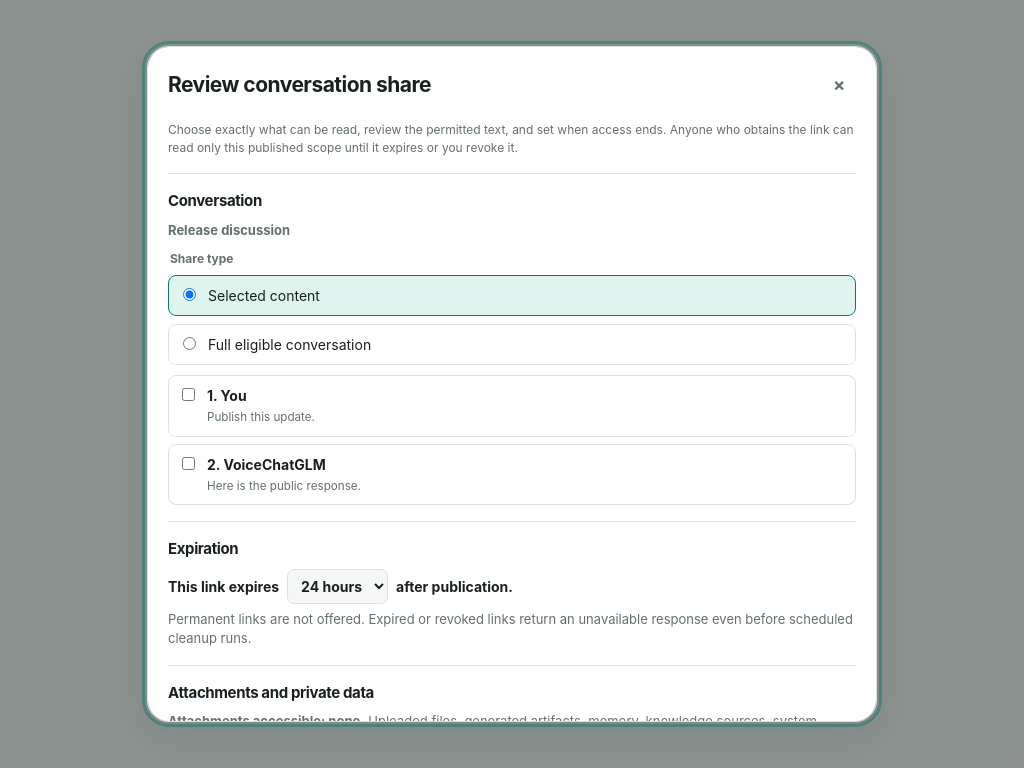
Test: explicit finite share publication dialog › requires a selected scope/expiry preview and only publishes after confirmation
The width and height of the screenshot is (1024, 768).
Expected: the text "Anyone who obtains the link" is shown, [168,122,854,155]
Click the checkbox labelled "1. You Publish this update." at point(188, 395), box [182,388,195,401]
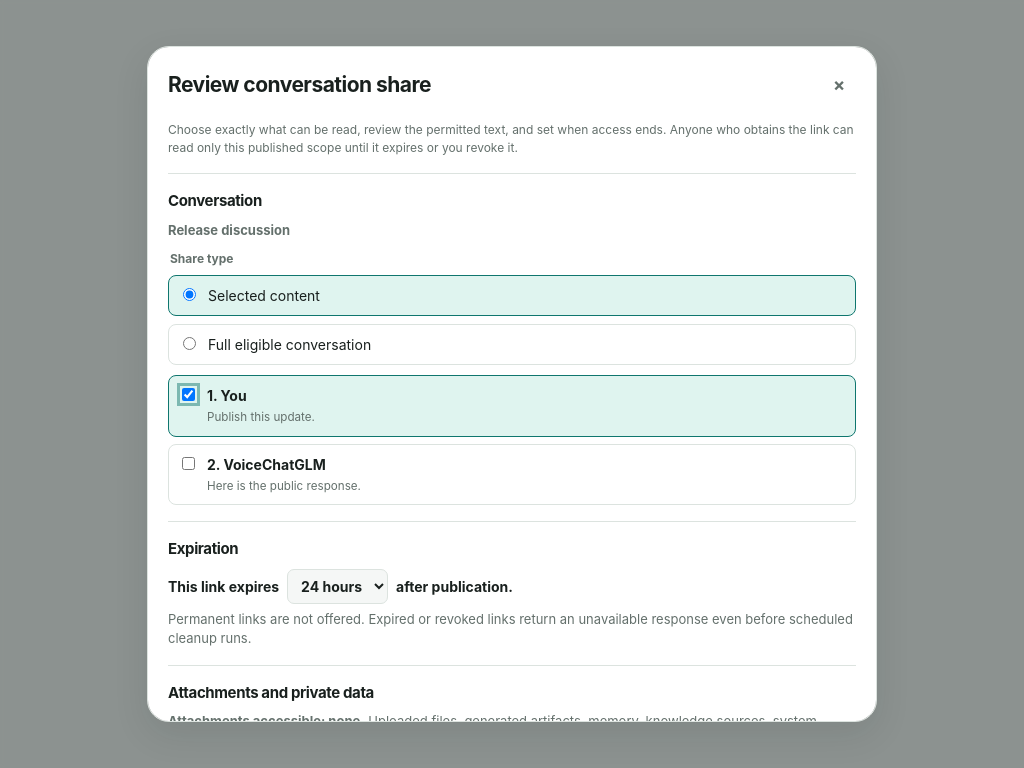
Select "24 hours" in the dropdown named "Share expiration" at point(338, 586), box [287,569,388,604]
(page scrolled)
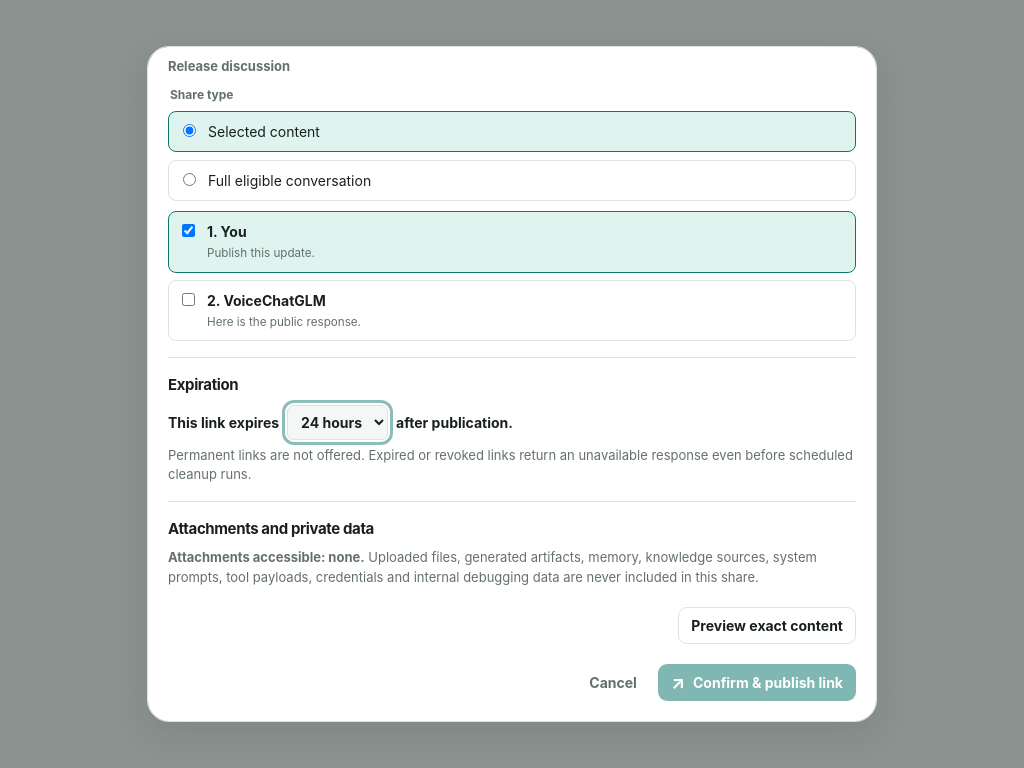
Click the button "Preview exact content" at point(767, 626), box [678,607,856,644]
(page scrolled)
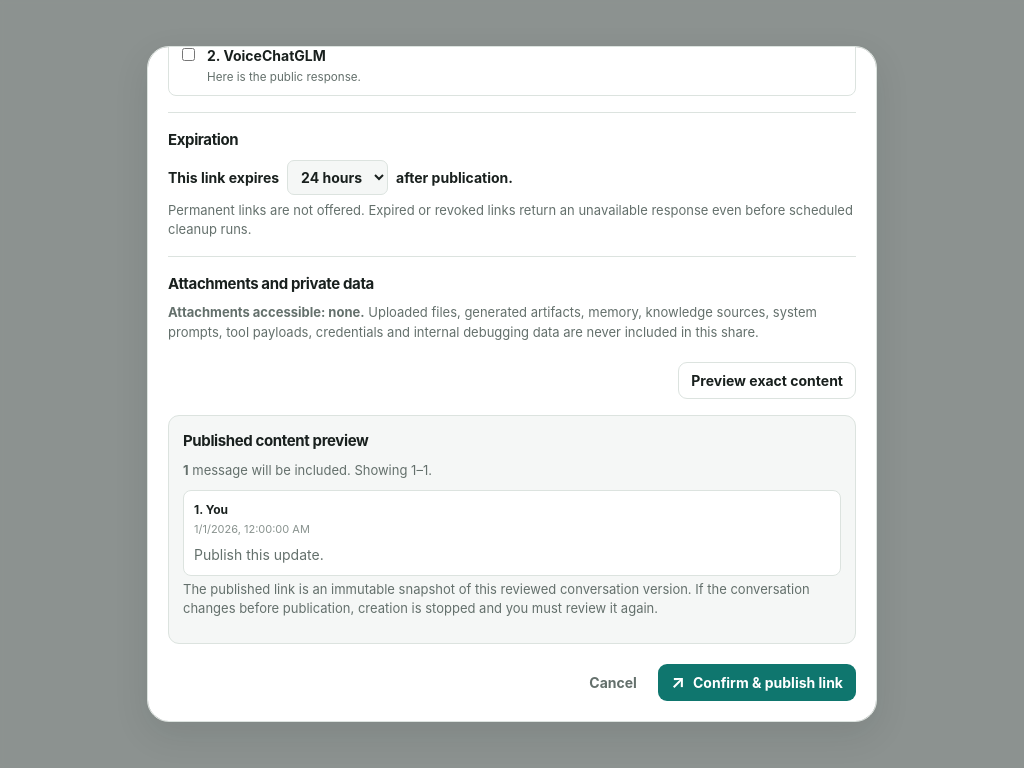
Now the heading "Published content preview" is shown, box [183,431,368,450]
Now the element named "Exact content preview" shows "1 message will be included", box [168,415,856,644]
Click the button "↗ Confirm & publish link" at point(757, 682), box [658,664,856,701]
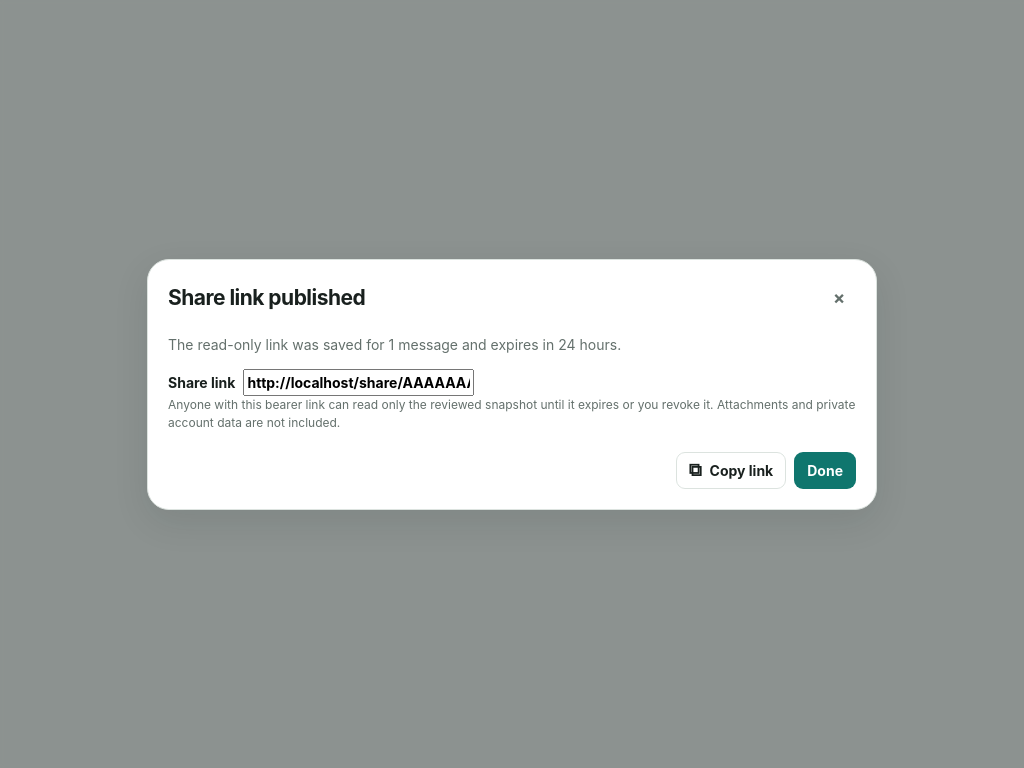
Now the button "⧉ Copy link" is enabled, box [676,452,786,488]
Now the heading "Share link published" is shown, box [168,282,365,313]
